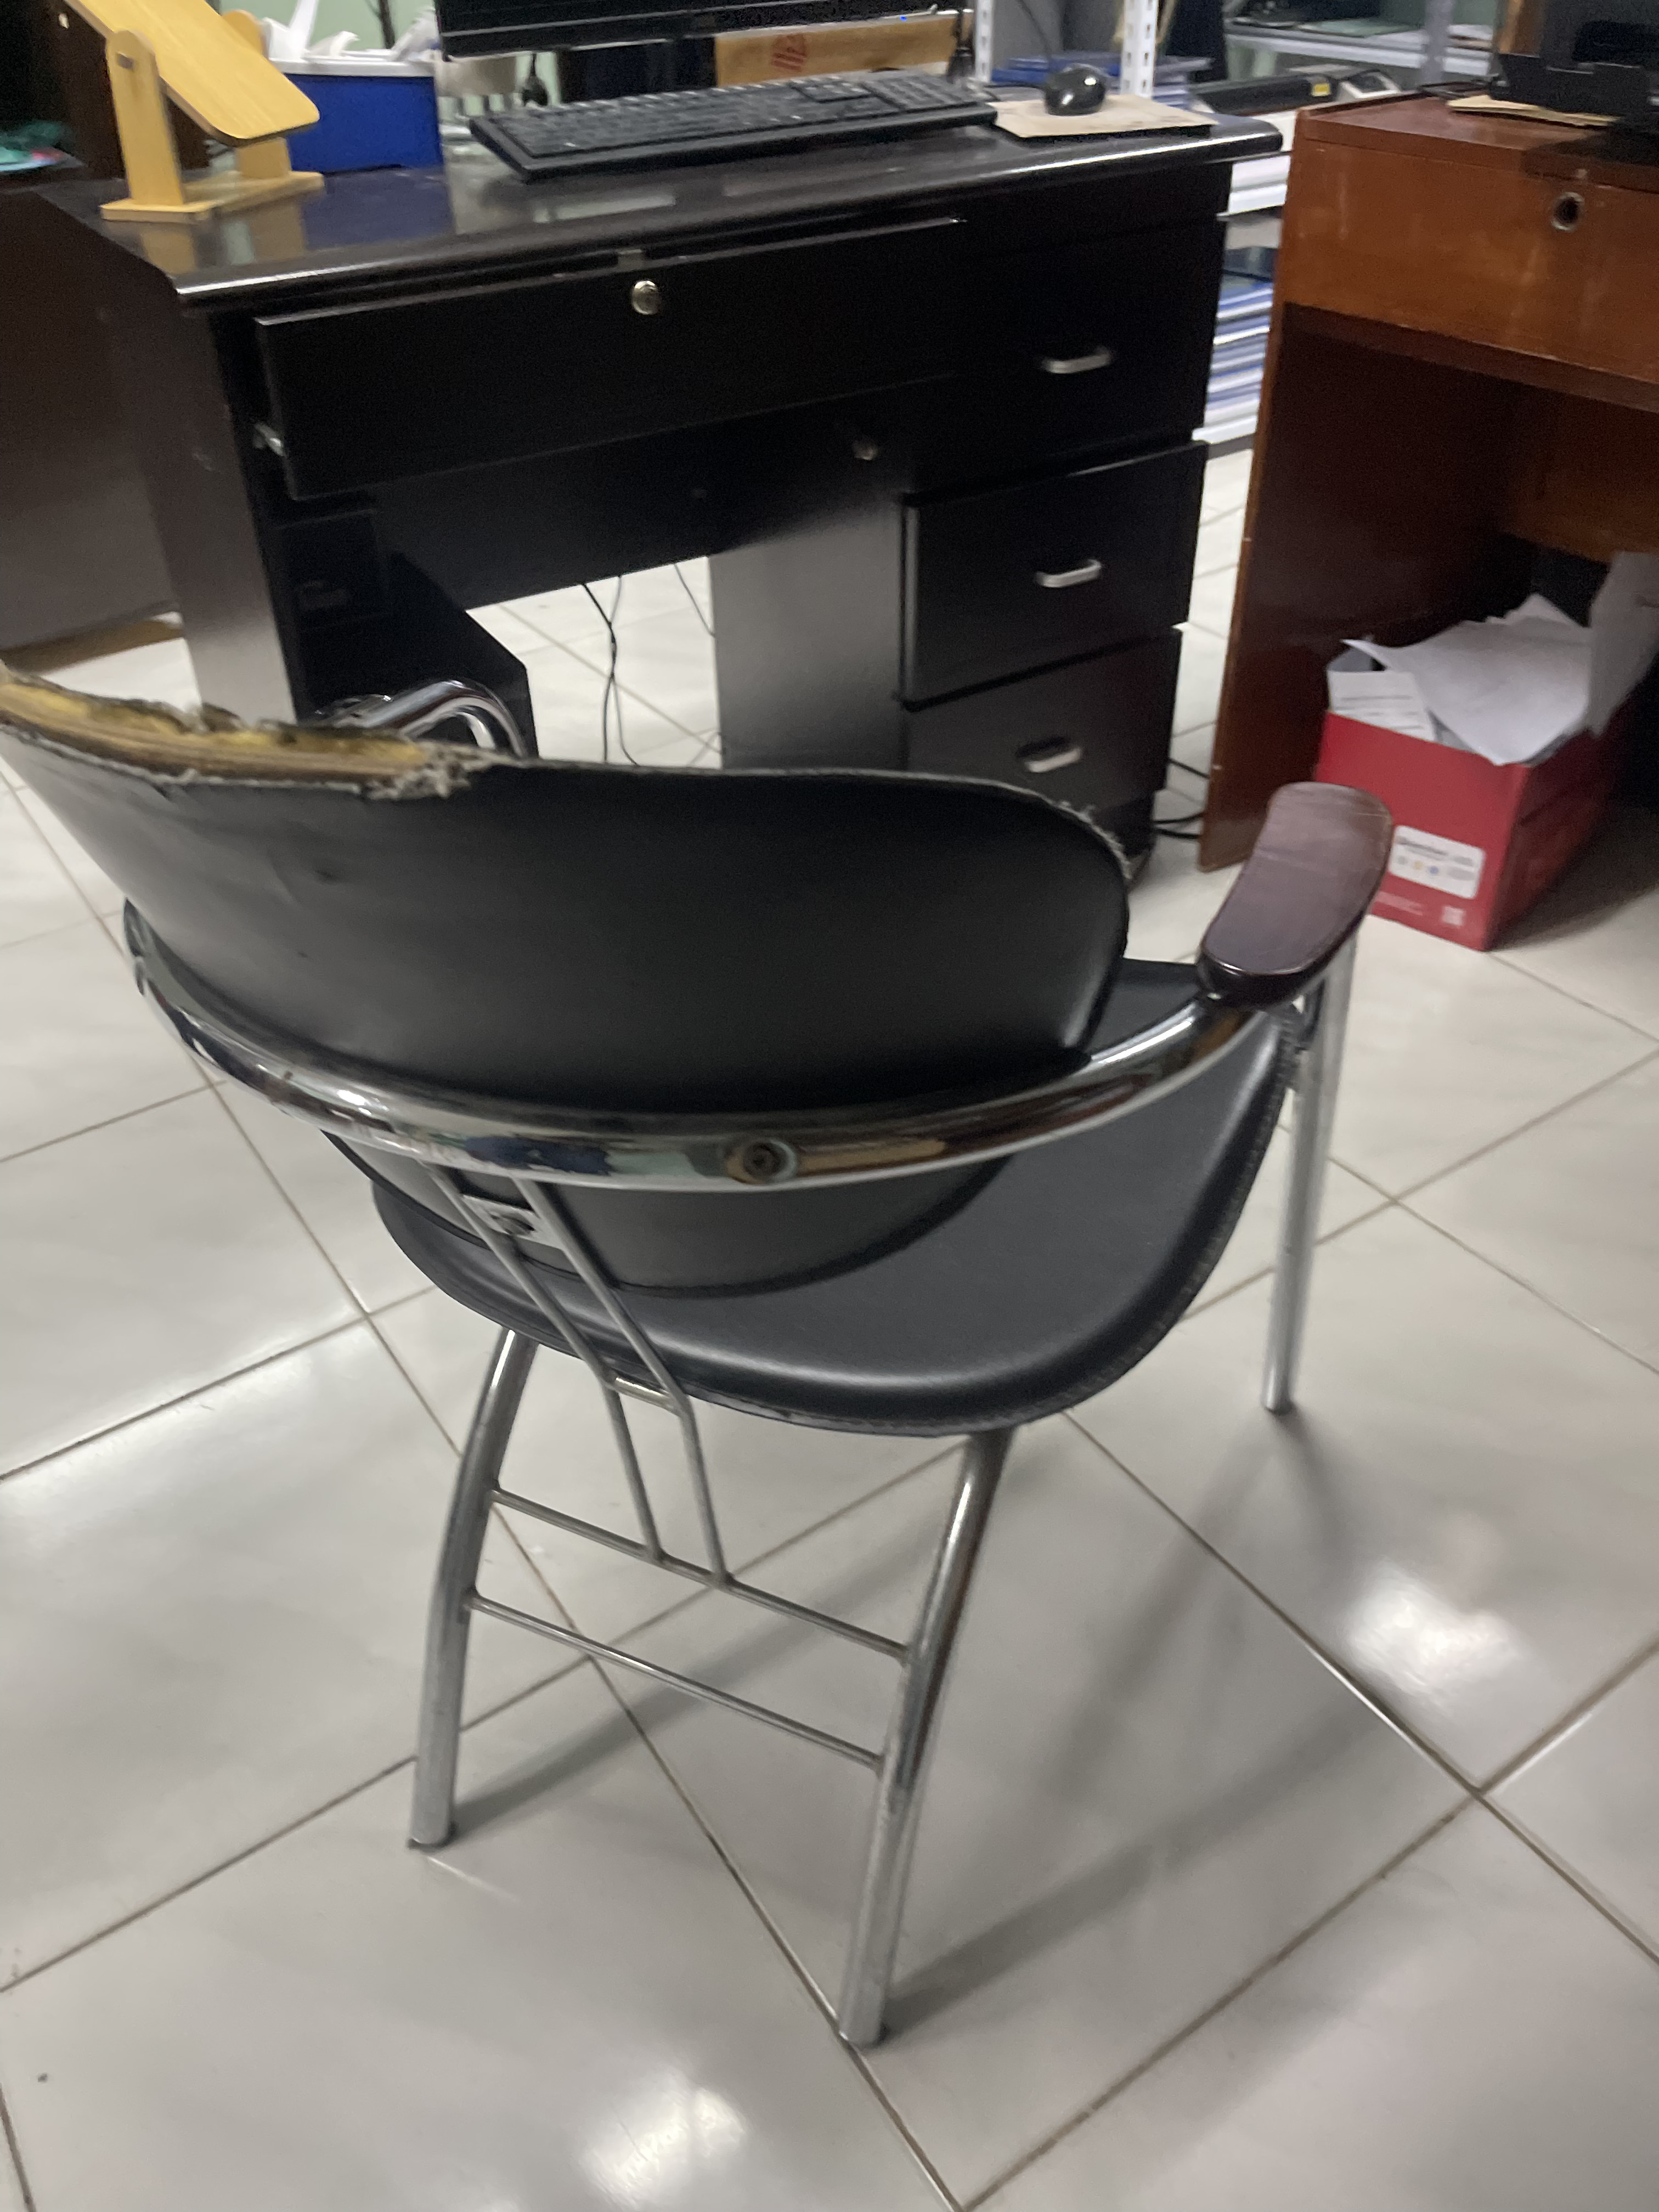chair1: (3, 655, 1394, 2057)
